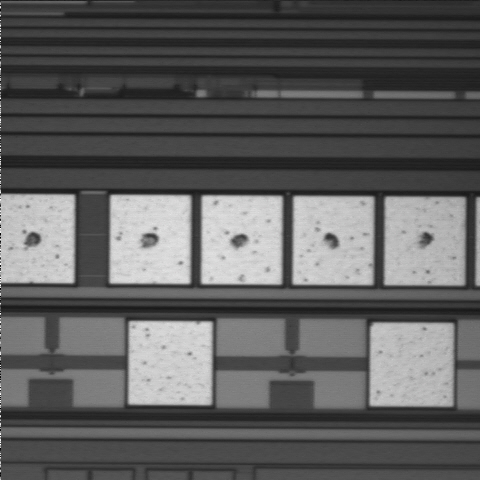pad: (110, 195, 190, 284), (202, 196, 282, 284), (293, 197, 373, 285), (129, 321, 212, 405), (385, 198, 464, 285), (370, 323, 452, 406)
